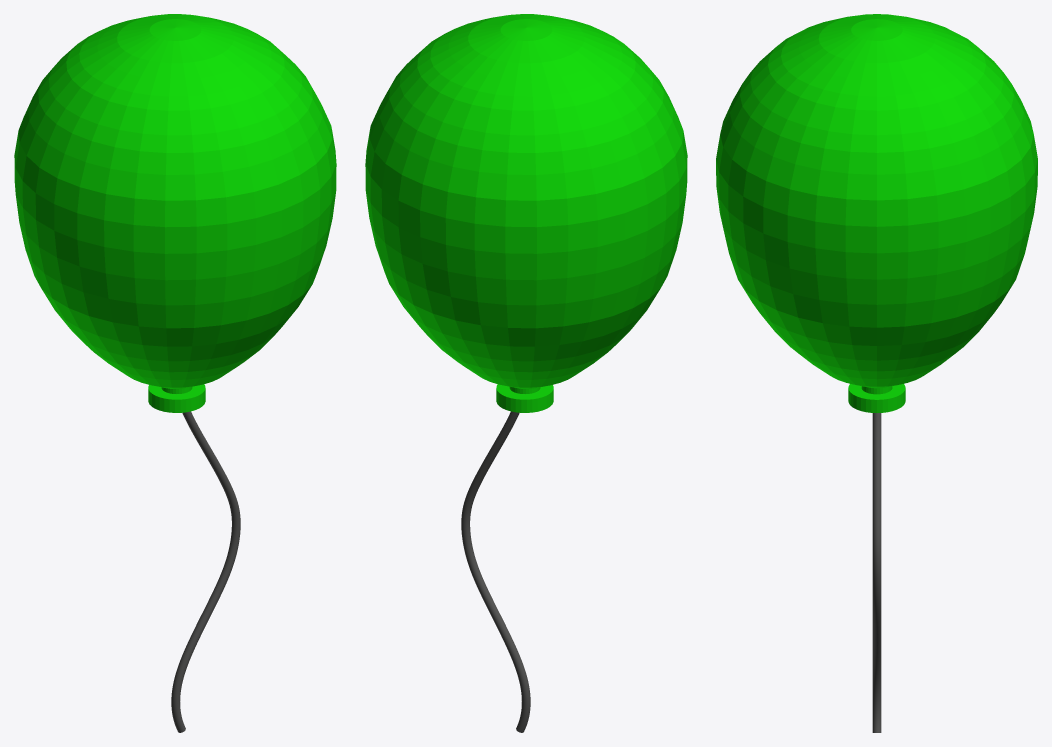
Rendered from ss_balloon2.gltf.
3 renders of one model, left to right at view 1: azimuth 30°, elevation 25°; view 2: azimuth 150°, elevation 25°; view 3: azimuth 270°, elevation 25°, orthographic.
Visible parts, largest first — view 1: Cylinder, NurbsPath; view 2: Cylinder, NurbsPath; view 3: Cylinder, NurbsPath.
Part boxes in pixels (left/top/right/bottom): Cylinder: left=14, top=14, right=336, bottom=412; NurbsPath: left=171, top=411, right=240, bottom=732; Cylinder: left=365, top=14, right=687, bottom=412; NurbsPath: left=461, top=411, right=530, bottom=732; Cylinder: left=716, top=14, right=1037, bottom=412; NurbsPath: left=872, top=413, right=881, bottom=732.
Bounding box in the file's own units: 0.5947 × 1.43 × 0.5947.
